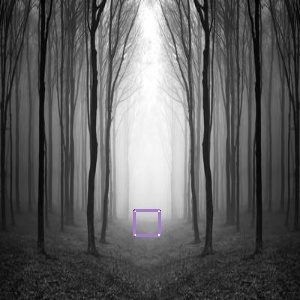square: (130, 206, 163, 240)
